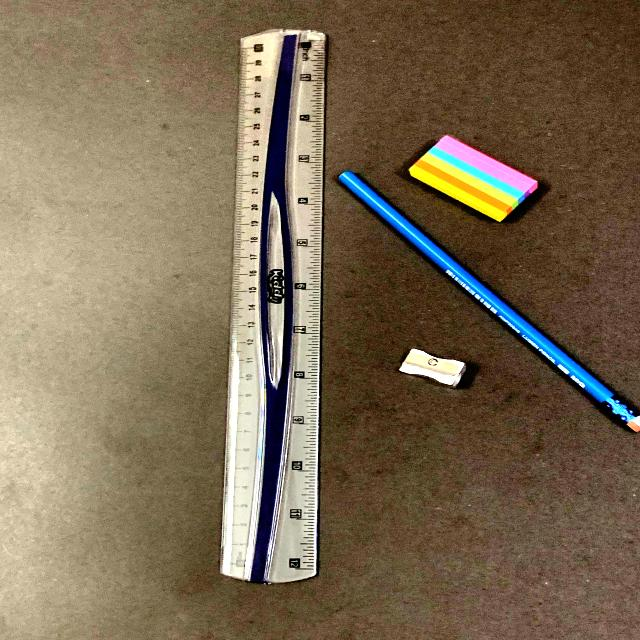Eraser: (393, 112, 572, 234)
Pencil: (341, 164, 636, 442)
Scale: (203, 13, 334, 605)
Sharpner: (381, 331, 487, 410)
